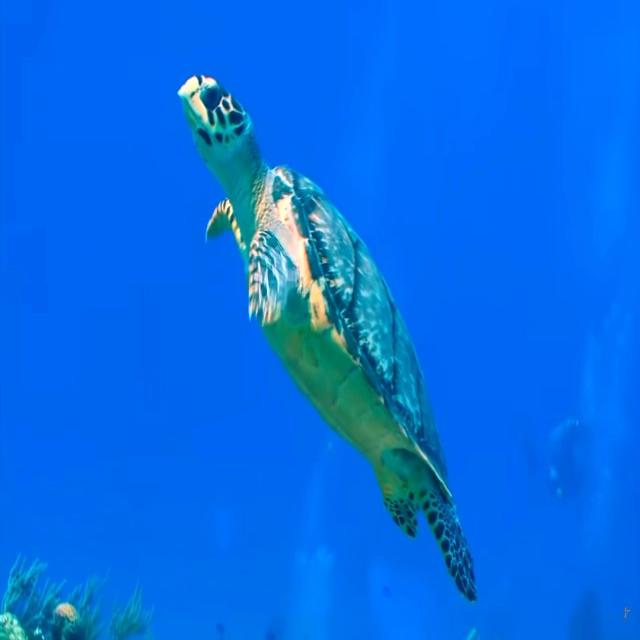Sea turtle: (177, 70, 477, 606)
